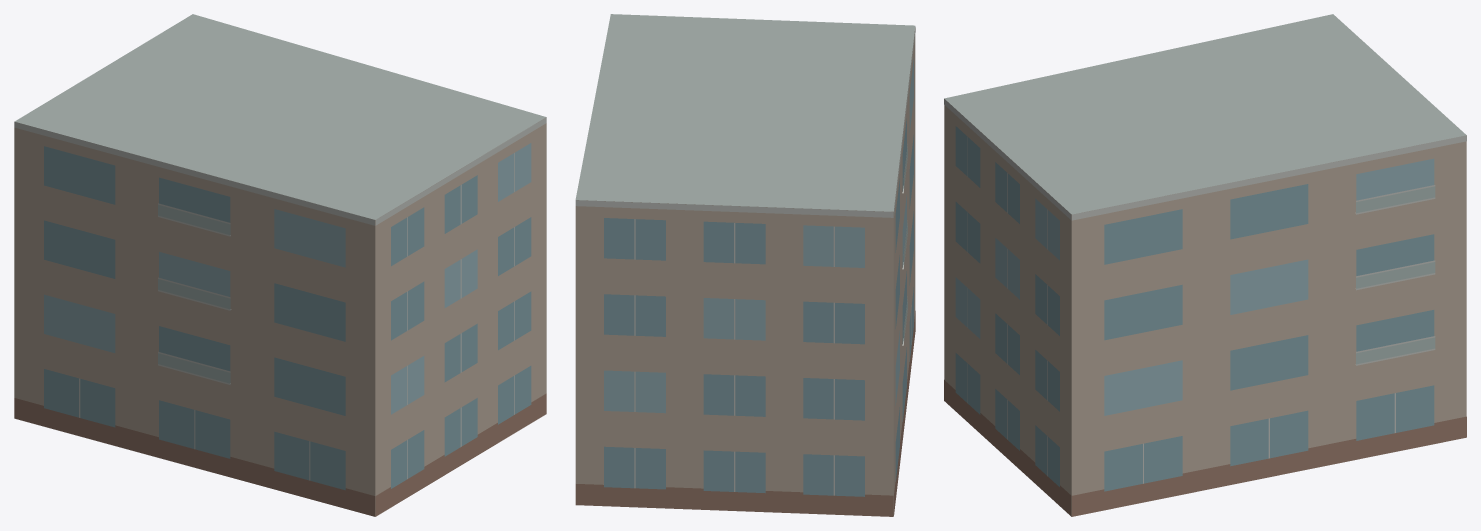
File: survey-upis-32816341.glb
The picture shows the model from 3 angles, left to right: view 1: azimuth 30°, elevation 25°; view 2: azimuth 150°, elevation 25°; view 3: azimuth 270°, elevation 25°; orthographic projection. The views are drawn at different scales.
Visible parts, largest first — view 1: survey-upis-32816341.tmp; view 2: survey-upis-32816341.tmp; view 3: survey-upis-32816341.tmp.
Boxes of the visible parts, x1,y1,x2,y2 form: survey-upis-32816341.tmp: (14, 14, 546, 516); survey-upis-32816341.tmp: (575, 14, 915, 516); survey-upis-32816341.tmp: (944, 14, 1466, 516).
Size of the model in its own units: 17.37 by 12.2 by 19.13.
